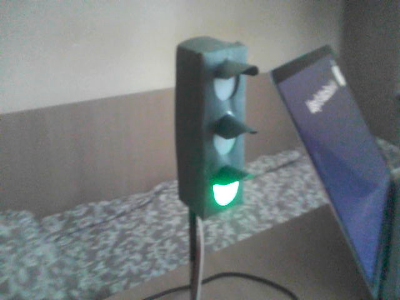trafficlight_green: (203, 47, 249, 218)
